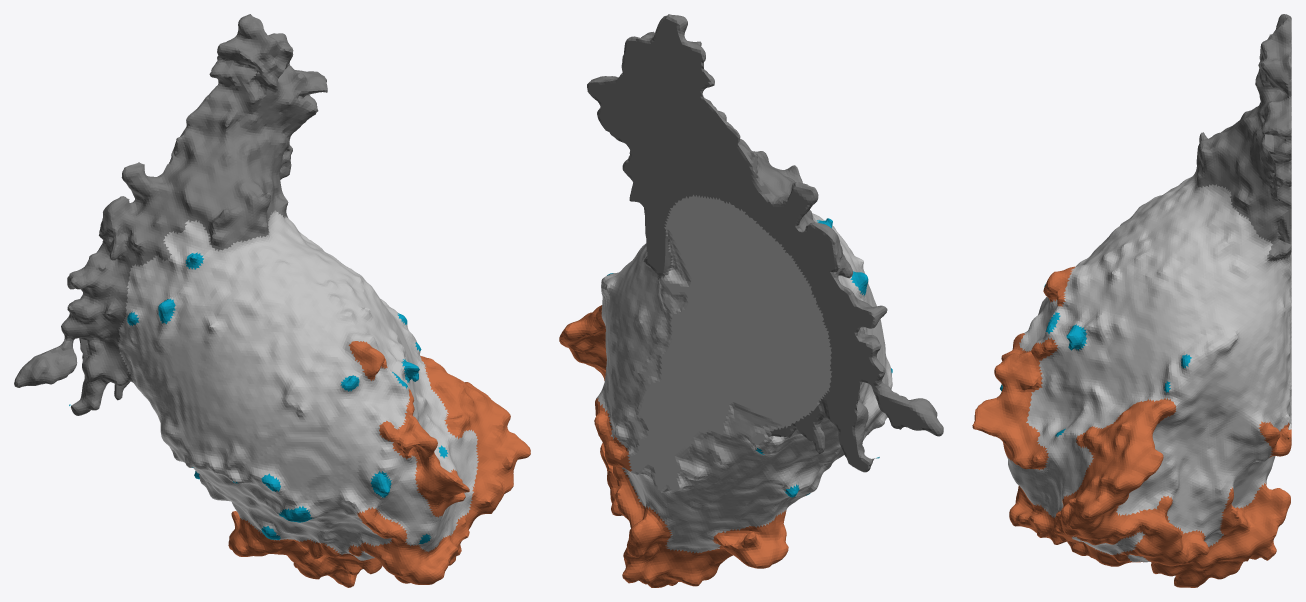
3 renders of one model, left to right at view 1: azimuth 30°, elevation 25°; view 2: azimuth 150°, elevation 25°; view 3: azimuth 270°, elevation 25°, orthographic. The views are drawn at different scales.
Bounding box in the file's own units: 145 × 180 × 94.87.
